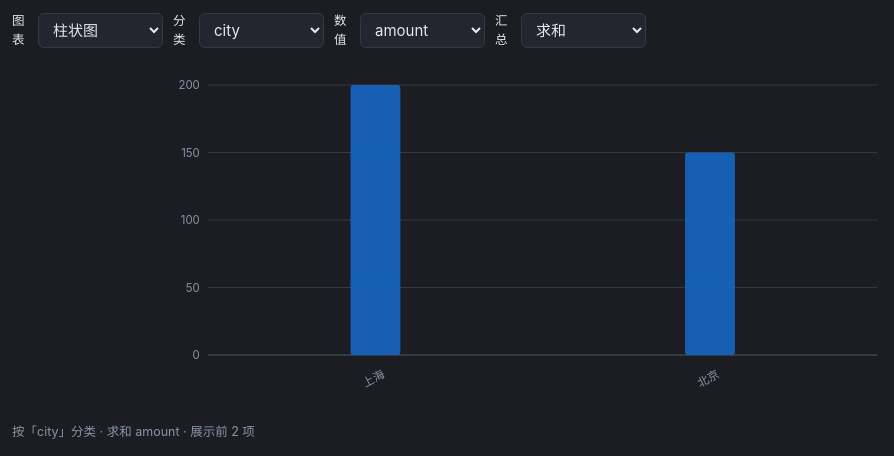
ResultChart › 「计数」汇总不需要数值列，按分类统计行数
Select "计数" in the dropdown labelled "汇总". click: (584, 31)
box: [521,13,646,48]
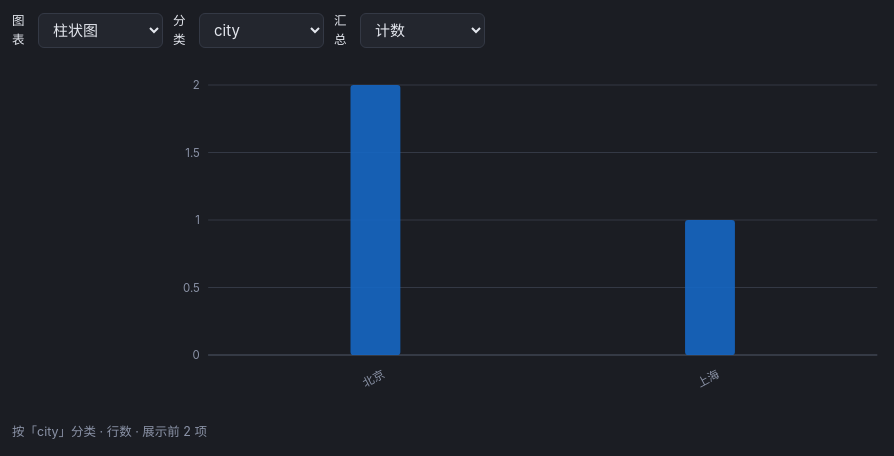
Now the number of labels is 3, box [12,12,163,50]; [173,12,324,50]; [334,12,485,50]
